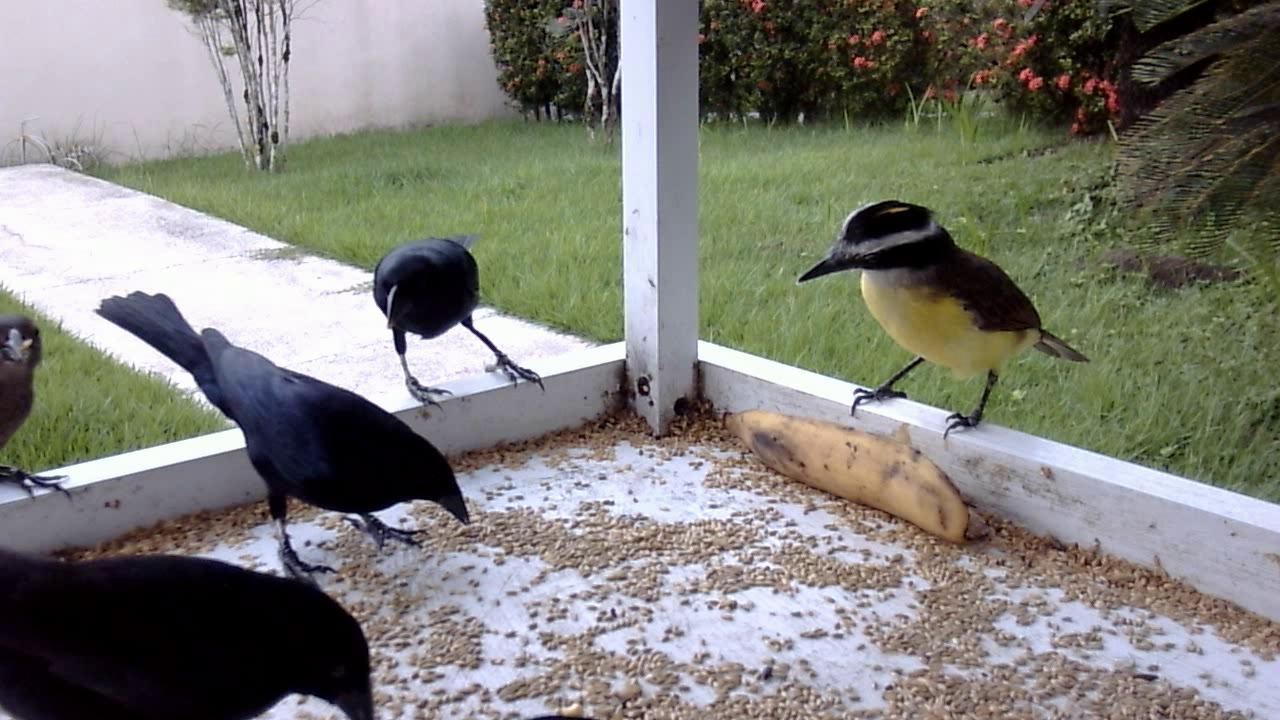bem_te_vi: (794, 191, 1087, 452)
chupim: (84, 288, 475, 592), (4, 536, 379, 720), (361, 228, 550, 421), (1, 308, 80, 518)
